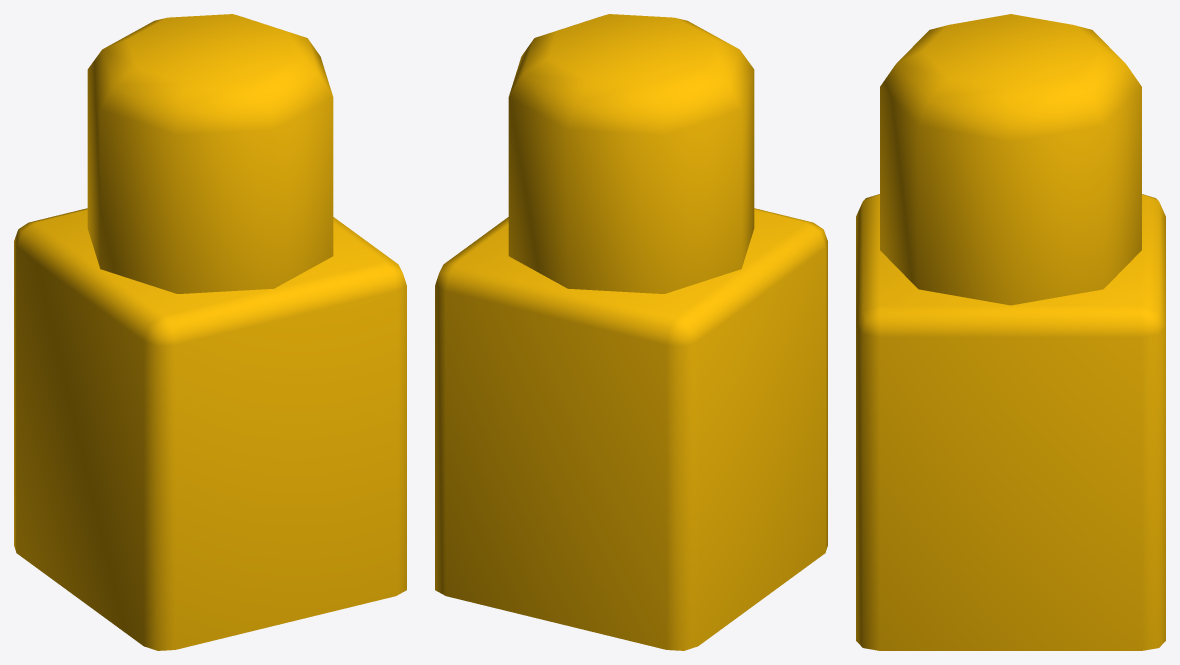
Rendered from plastic_block_1_01.FBX.
3 views of the same model, side by side, from view 1: azimuth 30°, elevation 25°; view 2: azimuth 150°, elevation 25°; view 3: azimuth 270°, elevation 25° (orthographic). The views are drawn at different scales.
Visible parts, largest first — view 1: plastic_block_1_01, plastic_block_1_01_knot; view 2: plastic_block_1_01, plastic_block_1_01_knot; view 3: plastic_block_1_01, plastic_block_1_01_knot.
Boxes of the visible parts, x1,y1,x2,y2 form: plastic_block_1_01: (14,208,406,650); plastic_block_1_01_knot: (87,14,333,293); plastic_block_1_01: (435,208,827,650); plastic_block_1_01_knot: (508,14,754,293); plastic_block_1_01: (856,194,1165,650); plastic_block_1_01_knot: (880,14,1141,305).
Bounding box in the file's own units: 150 × 285 × 150.
